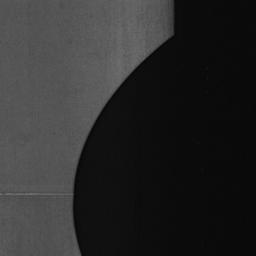Crescent gap: (73, 35, 173, 256)
